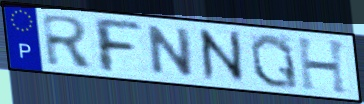F: (89, 15, 145, 76)
H: (295, 36, 352, 97)
N: (194, 27, 249, 84), (146, 23, 195, 78)
Q: (248, 32, 302, 91)
R: (39, 12, 97, 70)
